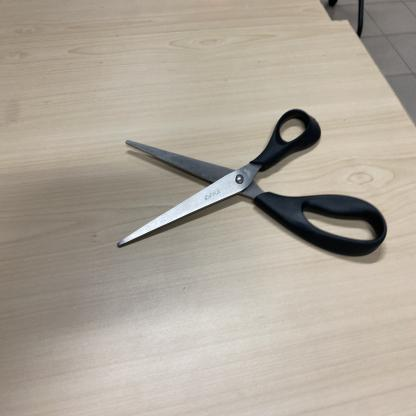scissors: (116, 108, 389, 258)
